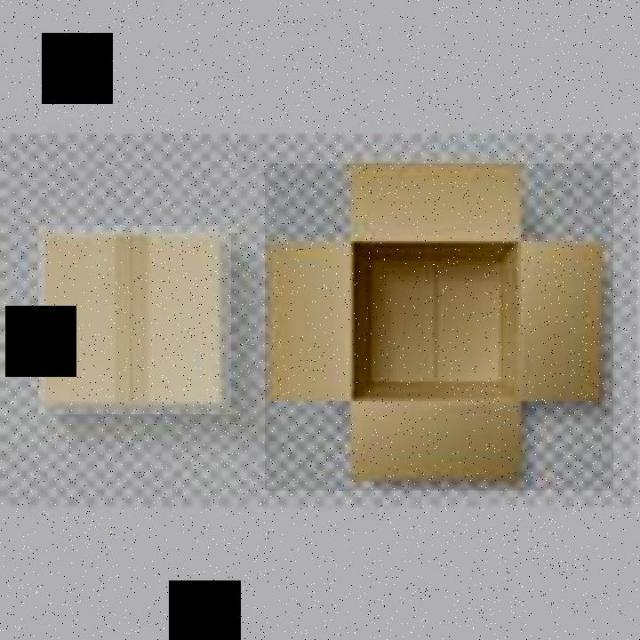box: (264, 164, 614, 491), (39, 226, 232, 414)
